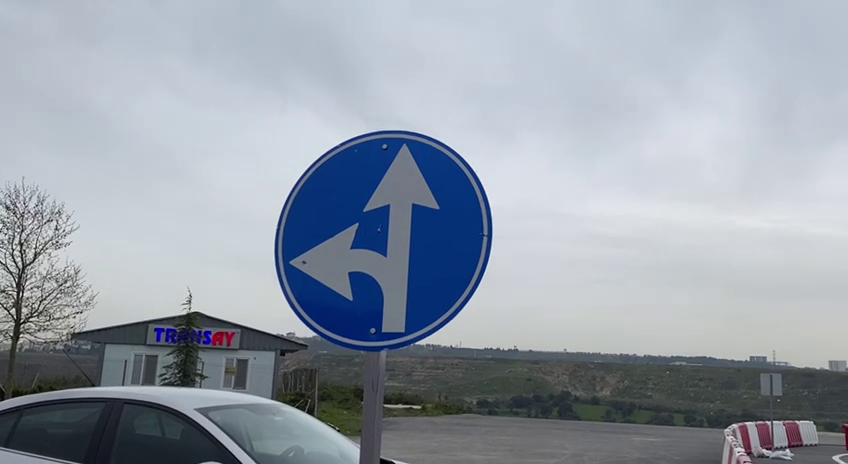forwardAndLeft: (269, 129, 496, 353)
